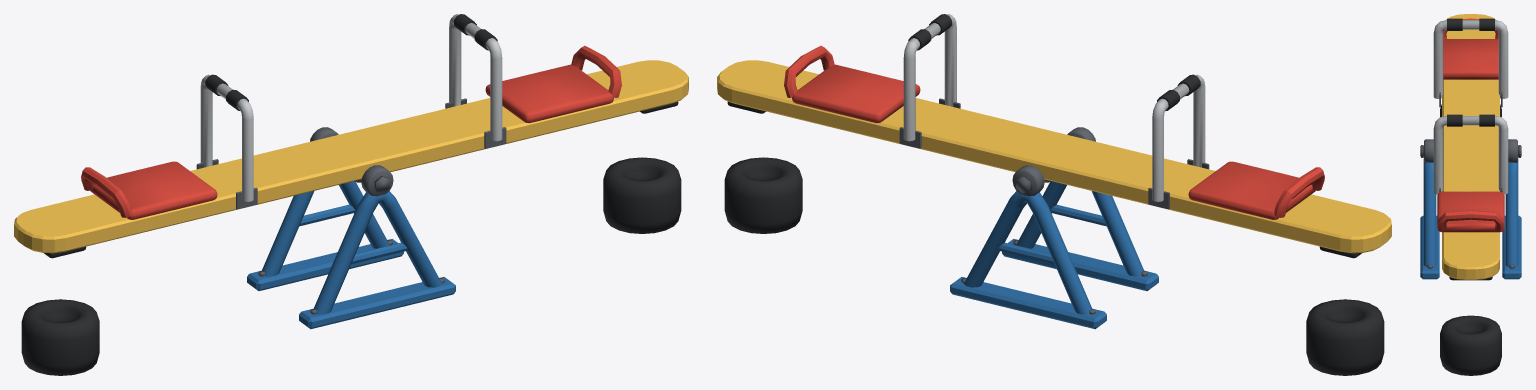
Rendered from seesaw.glb.
The picture shows the model from 3 angles, left to right: view 1: azimuth 30°, elevation 25°; view 2: azimuth 150°, elevation 25°; view 3: azimuth 270°, elevation 25°; orthographic projection. The views are drawn at different scales.
Visible parts, largest first — view 1: plank, stand; view 2: plank, stand; view 3: plank, stand.
Part boxes in pixels (x1,y1,x2,y2): plank: (14, 14, 688, 258); stand: (21, 127, 681, 375); plank: (717, 14, 1391, 258); stand: (724, 127, 1384, 375); plank: (1433, 14, 1508, 280); stand: (1420, 104, 1521, 375).
Bounding box in the file's own units: 2.5 × 0.846 × 0.42.
